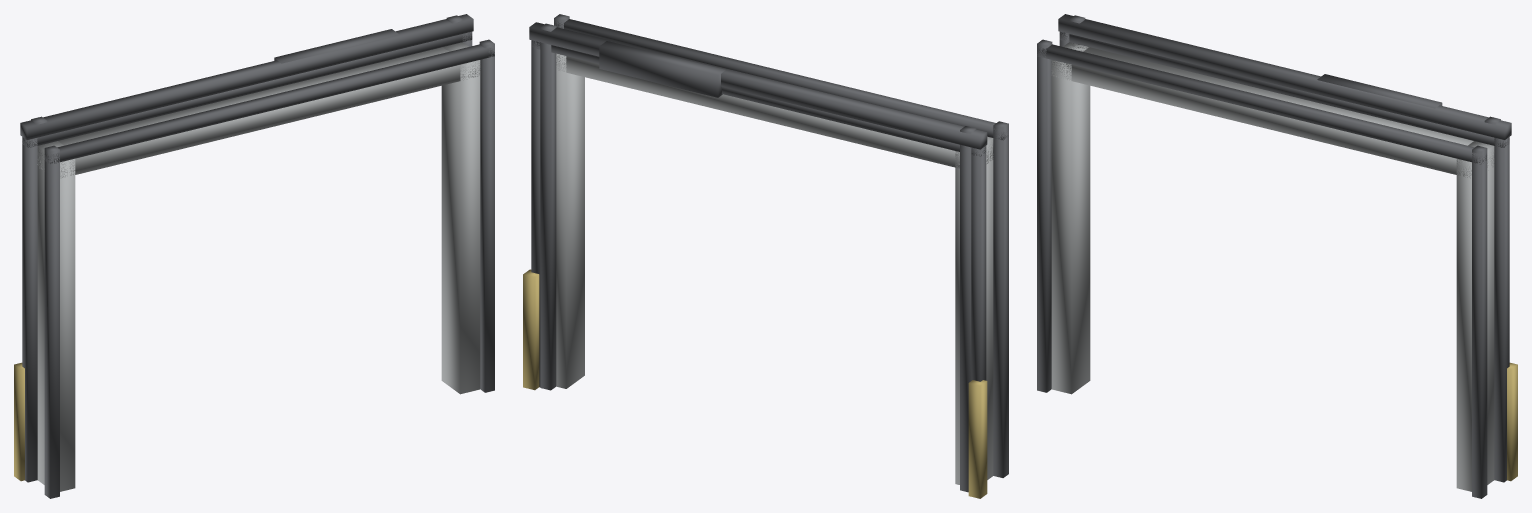
File: bay_opening_loading_bay_w360_h280_d30.glb
3 renders of one model, left to right at view 1: azimuth 30°, elevation 25°; view 2: azimuth 150°, elevation 25°; view 3: azimuth 330°, elevation 25°, orthographic.
Visible parts, largest first — view 1: world; view 2: world; view 3: world.
Boxes of the visible parts, x1,y1,x2,y2 form: world: [14, 14, 494, 498]; world: [523, 14, 1008, 498]; world: [1037, 14, 1517, 498].
Size of the model in its own units: 4.23 by 3.19 by 0.522.
